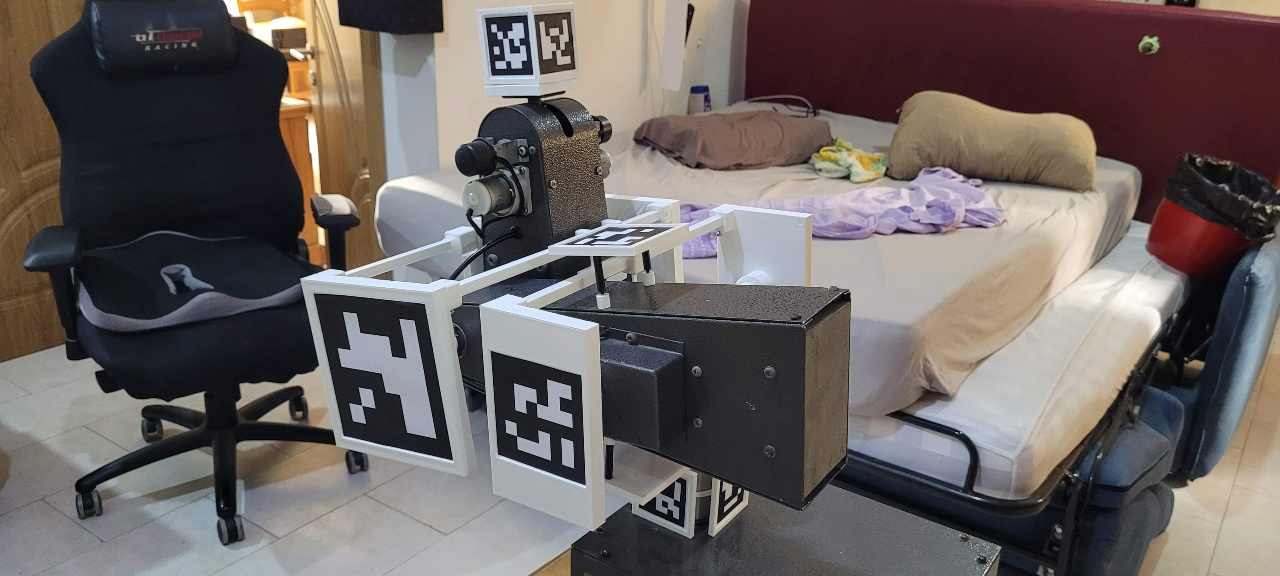Robot: (300, 2, 853, 541)
